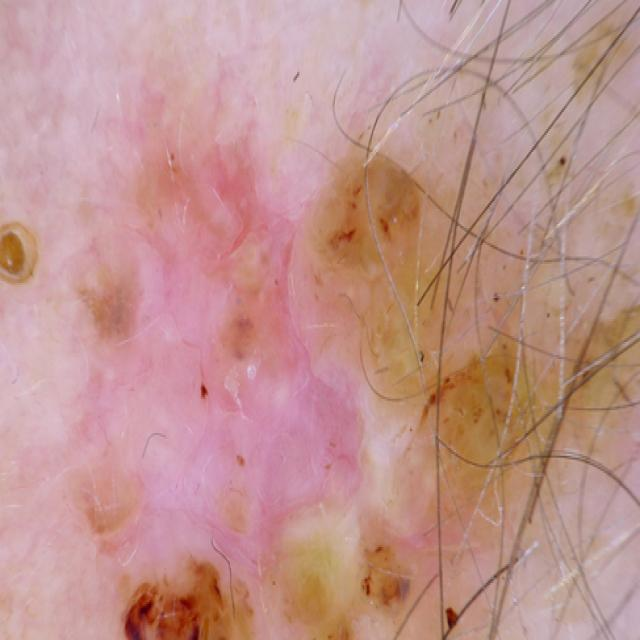Carcinoma: (290, 150, 640, 496), (102, 543, 429, 640), (0, 215, 66, 327)
